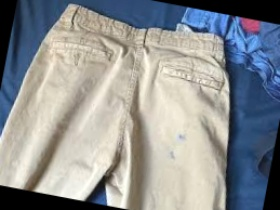ink: (167, 149, 177, 162), (177, 132, 188, 140)
